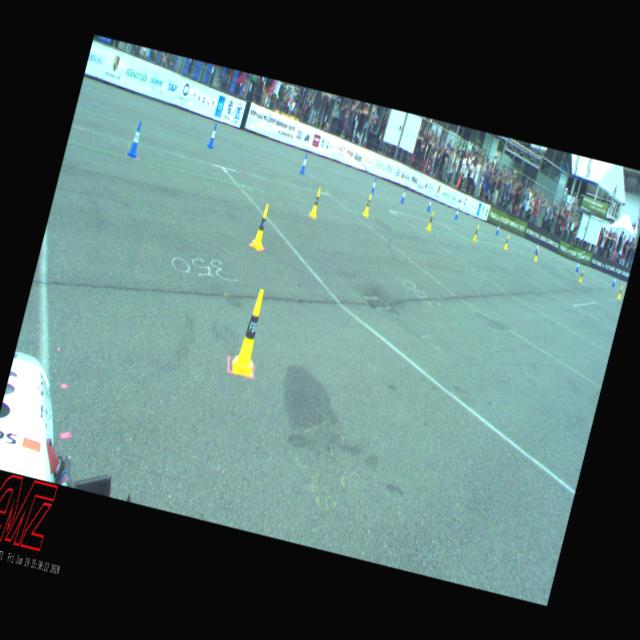blue_cone: (126, 120, 146, 158), (207, 122, 219, 148), (299, 153, 309, 175), (369, 177, 377, 194), (399, 187, 406, 204), (426, 196, 433, 212), (574, 260, 580, 272), (454, 206, 459, 220), (495, 222, 500, 234), (534, 242, 539, 252), (611, 276, 616, 286)
yellow_cone: (229, 286, 272, 377), (249, 202, 273, 250), (308, 186, 323, 218), (362, 192, 373, 216), (426, 210, 435, 230), (472, 224, 480, 241), (616, 285, 624, 298), (533, 248, 540, 262), (578, 268, 584, 282), (504, 234, 509, 249)
